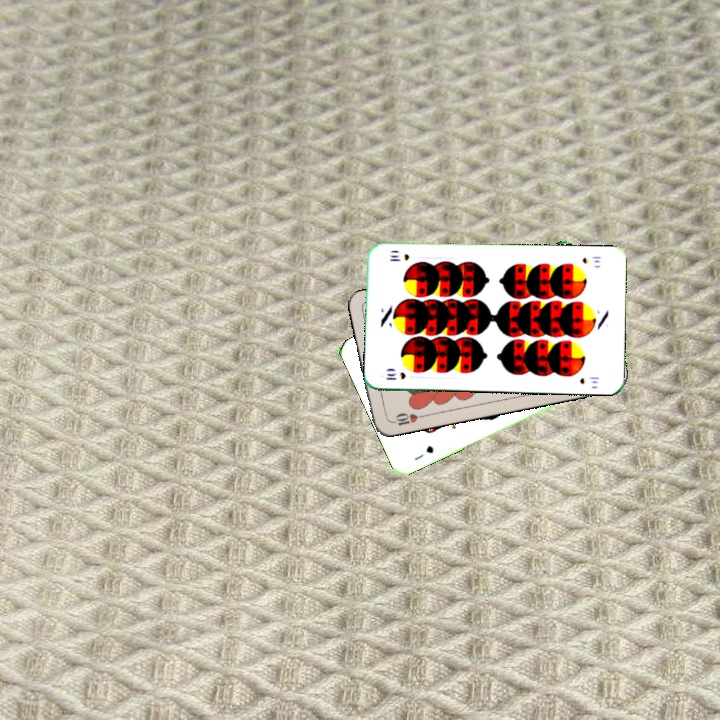GU: (410, 441, 436, 463)
H10: (387, 409, 427, 429)
S10: (382, 368, 408, 382), (578, 252, 603, 266)
